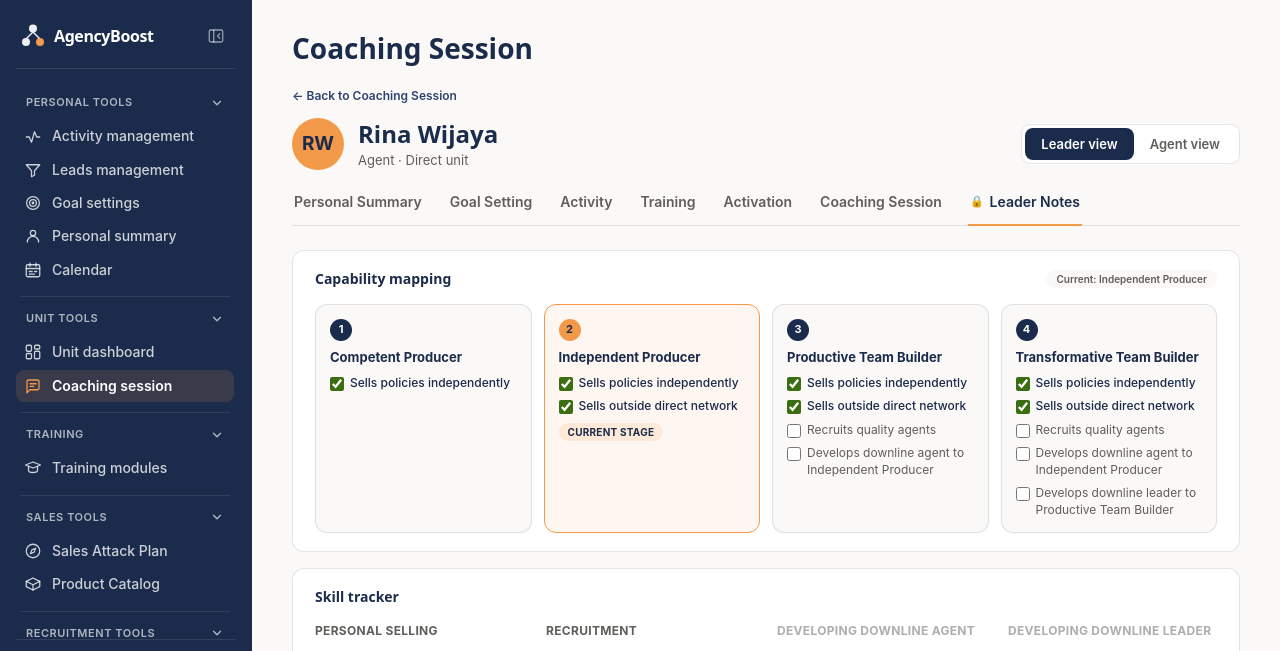
Test case: the Leader Notes tab (P11-T9) › Capability mapping › P11-T9 AC-1 a save another coach moved past reads the profile again and says so in one line
What coordinates should you click on to do the following:
click the 1st checkbox labelled "Recruits quality agents"
I would click on:
 (794, 431)
Its box is [787, 424, 801, 438].
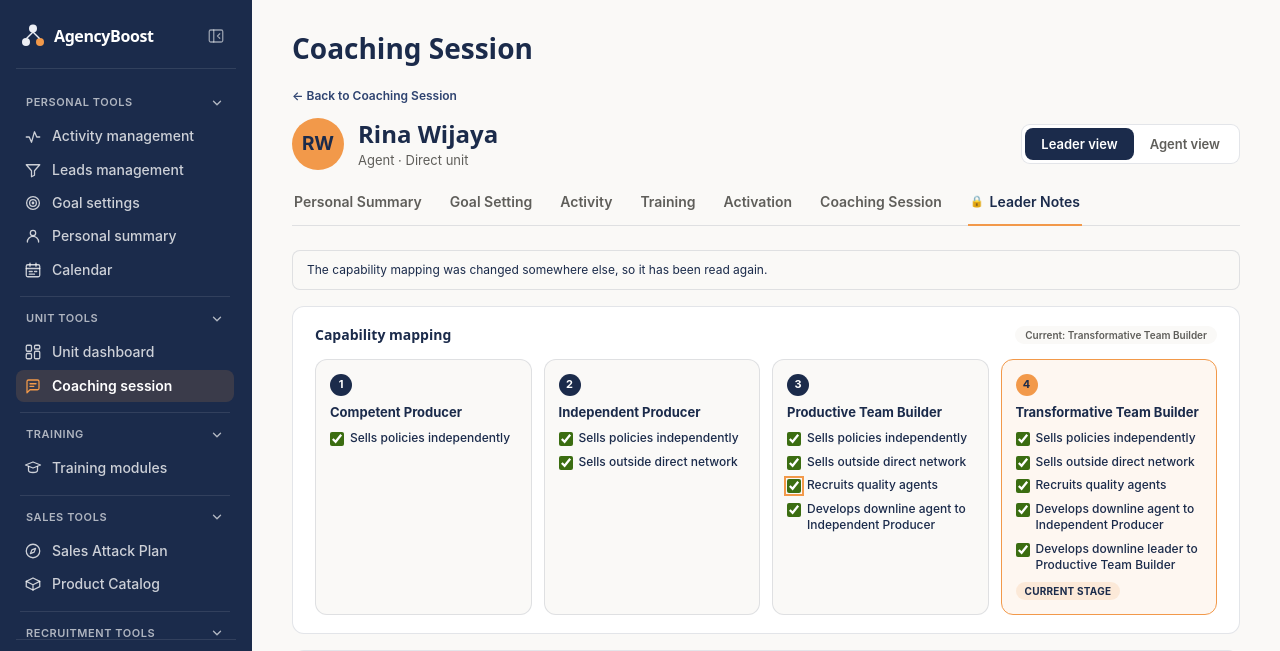
Now the text "Current: Transformative Team Builder" is shown, box [1015, 326, 1217, 344]
